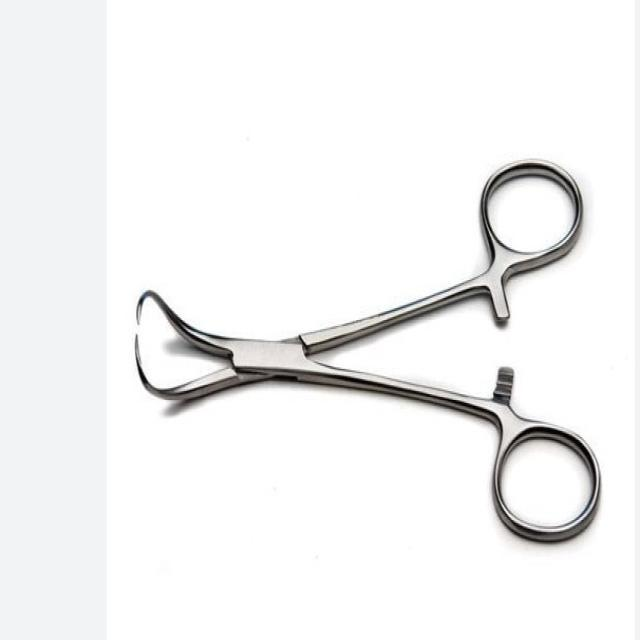Backhaus Towel Clamp: (124, 144, 606, 544)
